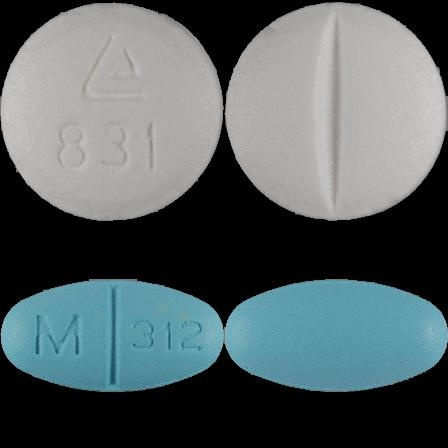43353-583: (0, 0, 224, 224)
